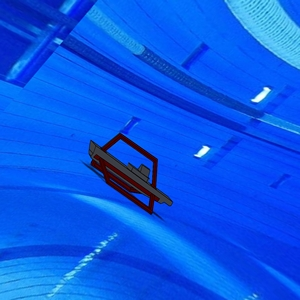submarine: (88, 129, 176, 221)
